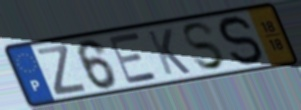6: (76, 37, 120, 91)
E: (106, 31, 161, 86)
K: (145, 27, 194, 77)
S: (217, 13, 265, 69), (181, 20, 228, 72)
Z: (35, 42, 89, 97)
